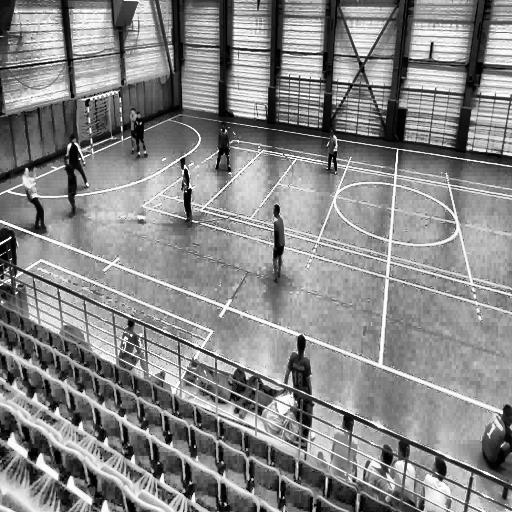ball: (138, 212, 146, 226)
player: (22, 163, 47, 231), (65, 133, 89, 191), (270, 203, 286, 282), (215, 120, 234, 174), (62, 154, 78, 218), (180, 157, 194, 226), (325, 125, 339, 175), (133, 111, 147, 160), (129, 108, 138, 156)
